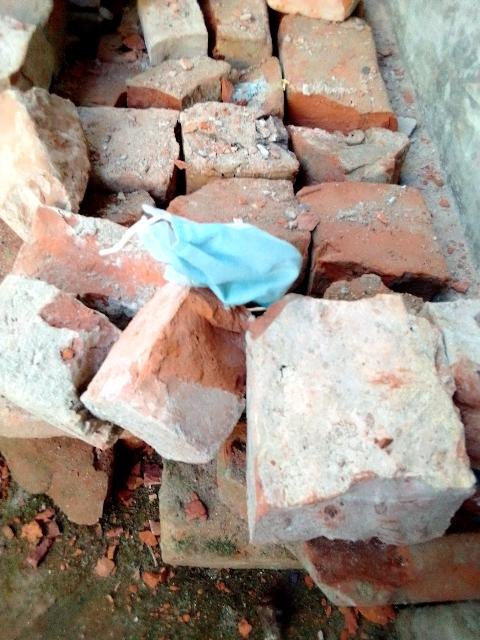mask: (134, 191, 314, 316)
